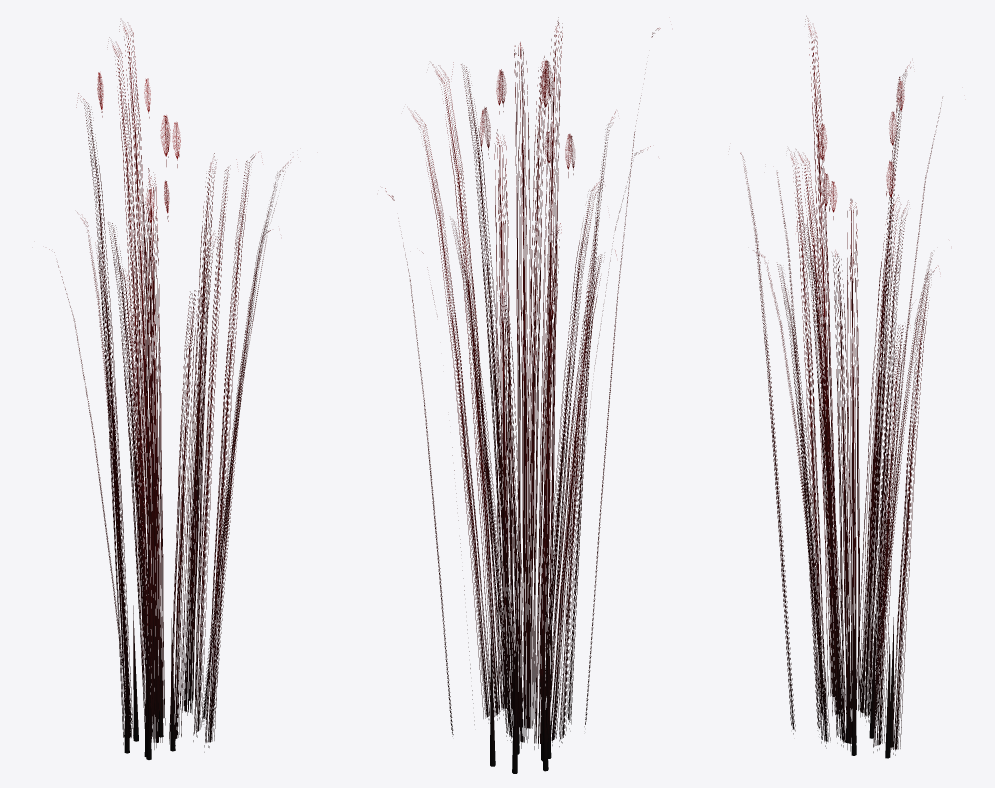
File: plant_swamp_reed_clump_a_lod2.glb
3 views of the same model, side by side, from view 1: azimuth 30°, elevation 25°; view 2: azimuth 150°, elevation 25°; view 3: azimuth 270°, elevation 25° (orthographic). The views are drawn at different scales.
Visible parts, largest first — view 1: plant_swamp_reed_clump_a; view 2: plant_swamp_reed_clump_a; view 3: plant_swamp_reed_clump_a.
Part boxes in pixels (bbox=[...]): plant_swamp_reed_clump_a: bbox=[49, 21, 290, 759]; plant_swamp_reed_clump_a: bbox=[385, 17, 660, 773]; plant_swamp_reed_clump_a: bbox=[740, 16, 942, 758].
Bounding box in the file's own units: 0.5408 × 1.38 × 0.4797.
Materials: 1 (1 with a texture image).
